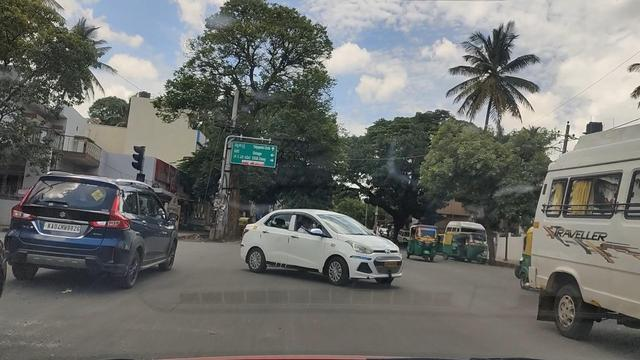LMV: (7, 169, 180, 282), (243, 205, 404, 292)
